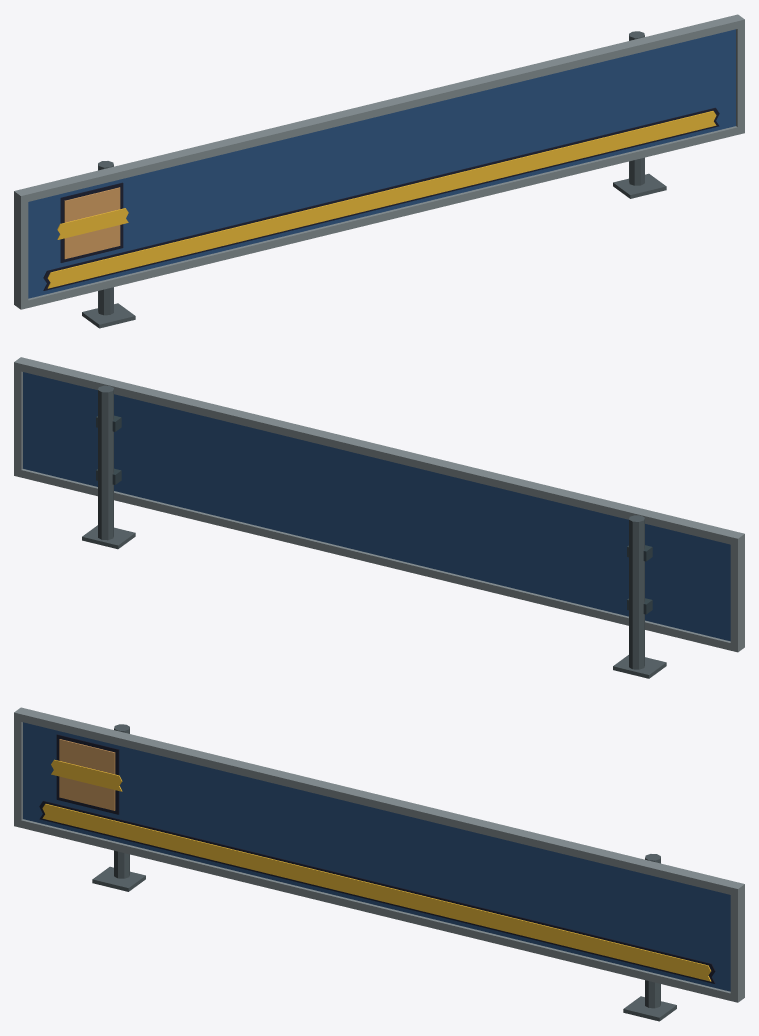
The model's file is sm_env_shed_sign_medium.glb.
The picture shows the model from 3 angles, top to bottom: view 1: azimuth 30°, elevation 25°; view 2: azimuth 150°, elevation 25°; view 3: azimuth 330°, elevation 25°; orthographic projection.
Visible parts, largest first — view 1: Board, BrandTape, FrameTop, FrameBottom, BrandTapeEdge, Brand, FrameEnd, BrandTape.001, FrameEnd.001, BrandInk, Plate.001, Plate (+2 smaller); view 2: Board, FrameTop, FrameBottom, Post, Post.001, FrameEnd, FrameEnd.001, Plate, Plate.001; view 3: Board, BrandTape, FrameTop, FrameBottom, BrandTapeEdge, Brand, FrameEnd.001, BrandTape.001, FrameEnd, BrandInk, Plate, Plate.001 (+2 smaller).
Boxes of the visible parts, x1,y1,x2,y2 form: Board: [28, 29, 735, 298]; BrandTape: [47, 111, 716, 288]; FrameTop: [15, 16, 744, 203]; FrameBottom: [14, 125, 744, 309]; BrandTapeEdge: [43, 107, 719, 290]; Brand: [64, 187, 120, 259]; FrameEnd: [14, 189, 28, 308]; BrandTape.001: [57, 208, 128, 239]; FrameEnd.001: [731, 14, 744, 133]; BrandInk: [60, 182, 123, 262]; Plate.001: [613, 173, 666, 198]; Plate: [82, 303, 135, 328]; Board: [23, 372, 730, 641]; FrameTop: [14, 359, 744, 545]; FrameBottom: [14, 468, 744, 652]; Post: [629, 515, 644, 669]; Post.001: [98, 385, 113, 540]; FrameEnd: [730, 532, 744, 651]; FrameEnd.001: [14, 357, 27, 476]; Plate: [613, 655, 666, 678]; Plate.001: [82, 525, 135, 549]; Board: [23, 722, 730, 991]; BrandTape: [42, 804, 711, 981]; FrameTop: [14, 709, 744, 895]; FrameBottom: [14, 818, 744, 1002]; BrandTapeEdge: [39, 800, 715, 983]; Brand: [59, 739, 115, 810]; FrameEnd.001: [730, 882, 744, 1001]; BrandTape.001: [51, 759, 122, 791]; FrameEnd: [14, 707, 27, 827]; BrandInk: [56, 734, 119, 814]; Plate: [92, 866, 145, 891]; Plate.001: [623, 996, 676, 1021].
Bounding box in the file's own units: 6 × 1.2 × 0.25.
